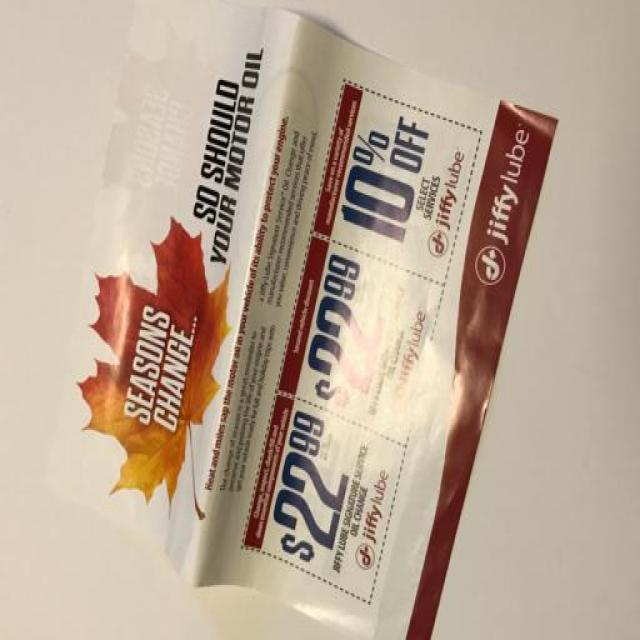paper: (53, 6, 569, 638)
